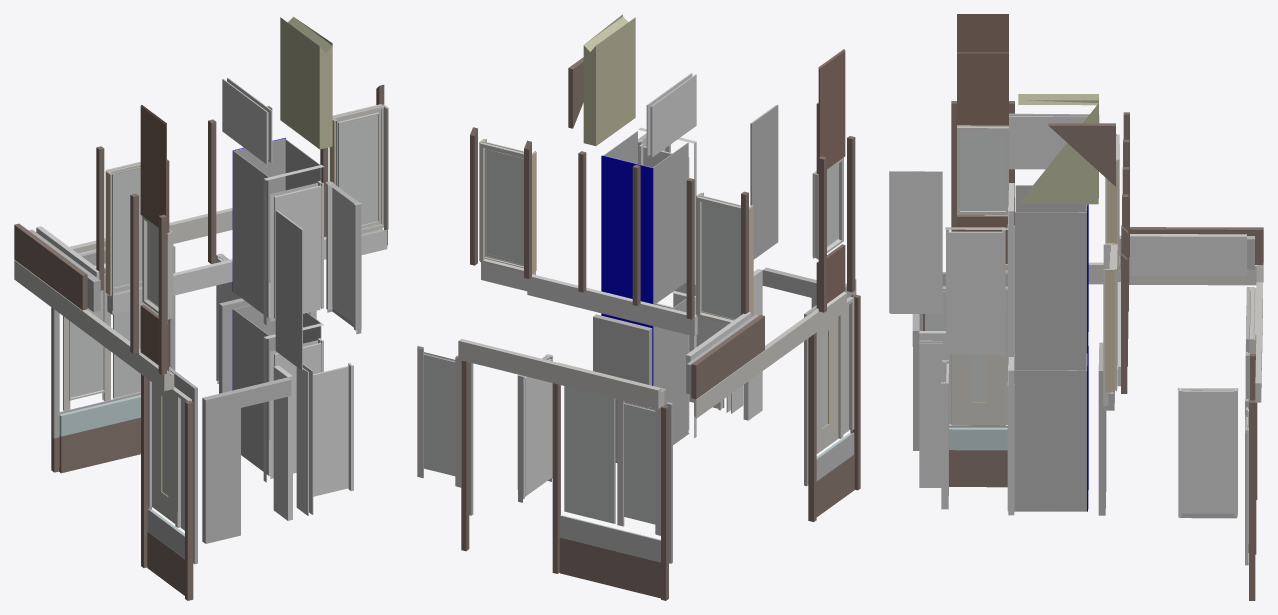
3 views of the same model, side by side, from view 1: azimuth 30°, elevation 25°; view 2: azimuth 150°, elevation 25°; view 3: azimuth 270°, elevation 25° (orthographic). The views are drawn at different scales.
Size of the model in its own units: 6.13 by 9.06 by 6.42.
